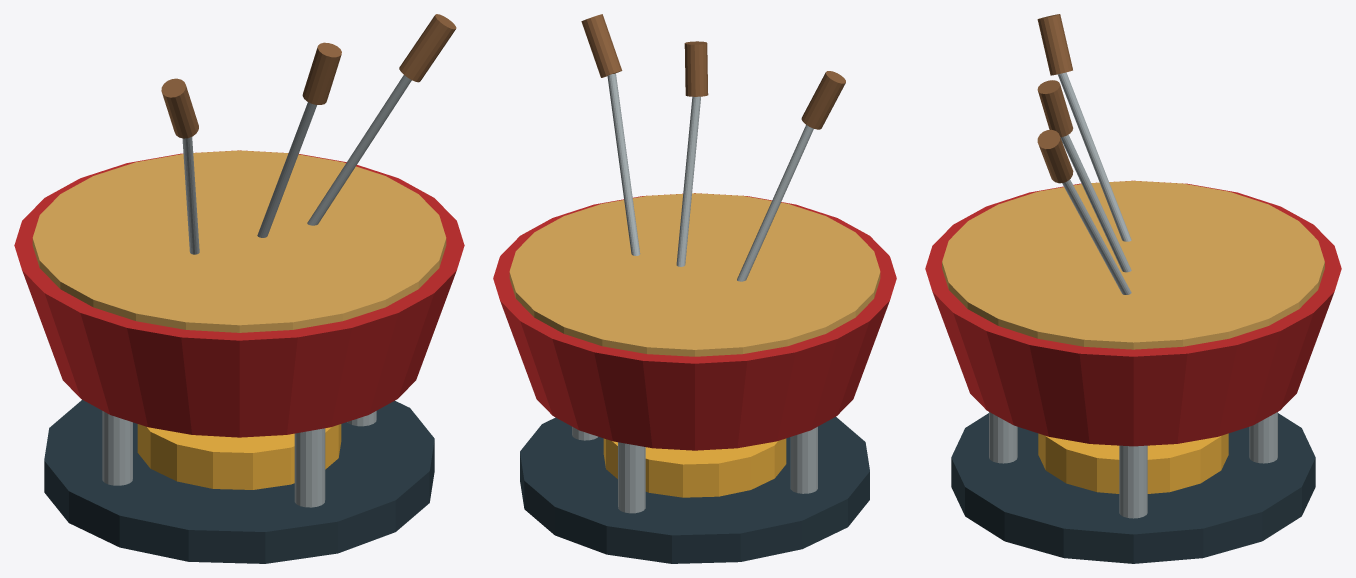
File: scendance-plan-fondue.glb
3 renders of one model, left to right at view 1: azimuth 30°, elevation 25°; view 2: azimuth 150°, elevation 25°; view 3: azimuth 270°, elevation 25°, orthographic. The views are drawn at different scales.
Size of the model in its own units: 0.32 by 0.3609 by 0.32.
